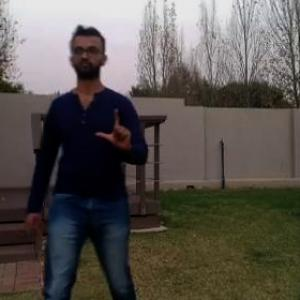land_hand: (88, 103, 137, 158)
